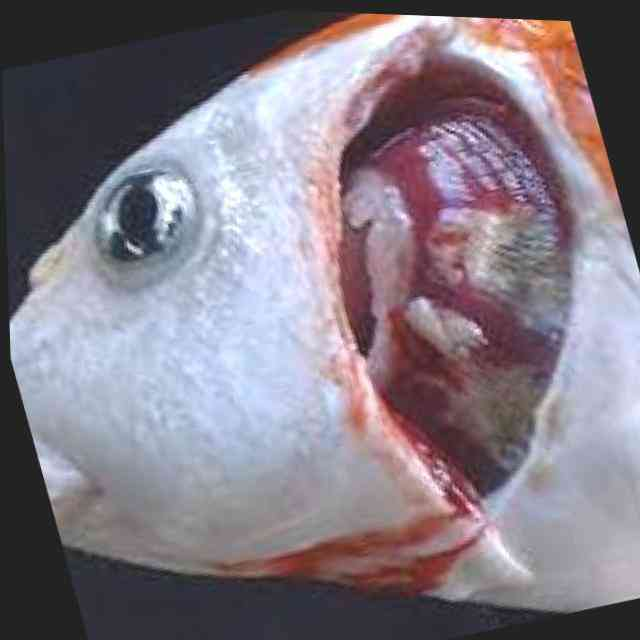Gill Disease: (112, 11, 628, 640)
